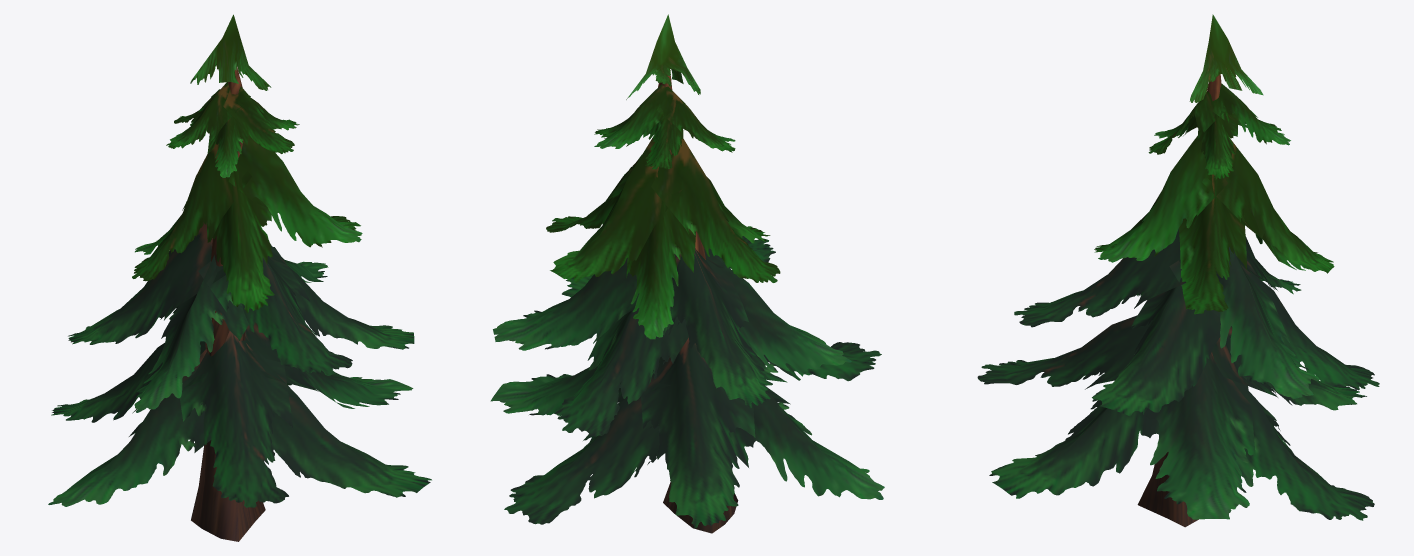
The model's file is spruce_1.FBX.
The picture shows the model from 3 angles, left to right: view 1: azimuth 30°, elevation 25°; view 2: azimuth 150°, elevation 25°; view 3: azimuth 270°, elevation 25°; orthographic projection. The views are drawn at different scales.
Parts seen in each view (by area): view 1: spruce_1; view 2: spruce_1; view 3: spruce_1.
Boxes of the visible parts, box(x1,y1,x2,y2) form: spruce_1: box(48, 14, 431, 541); spruce_1: box(490, 14, 884, 533); spruce_1: box(977, 14, 1379, 527).
Bounding box in the file's own units: 108 × 134 × 106.
